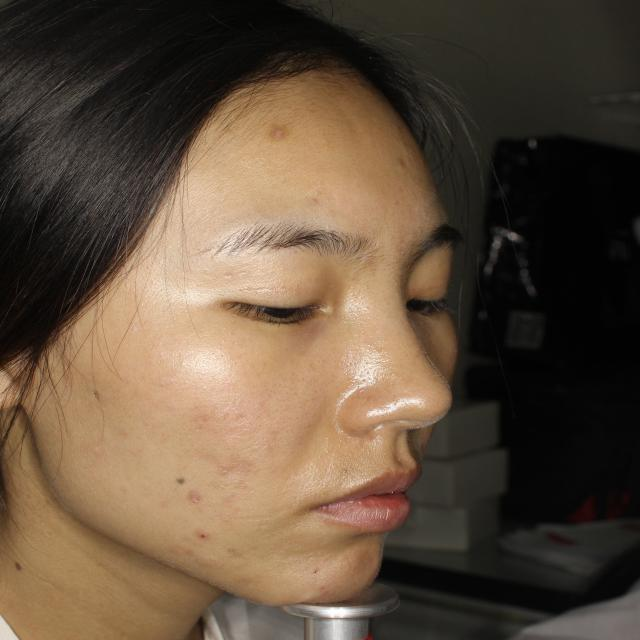acne: (185, 515, 220, 547), (259, 119, 295, 150), (218, 452, 240, 484), (180, 482, 204, 505), (224, 539, 250, 560), (166, 543, 193, 563)
